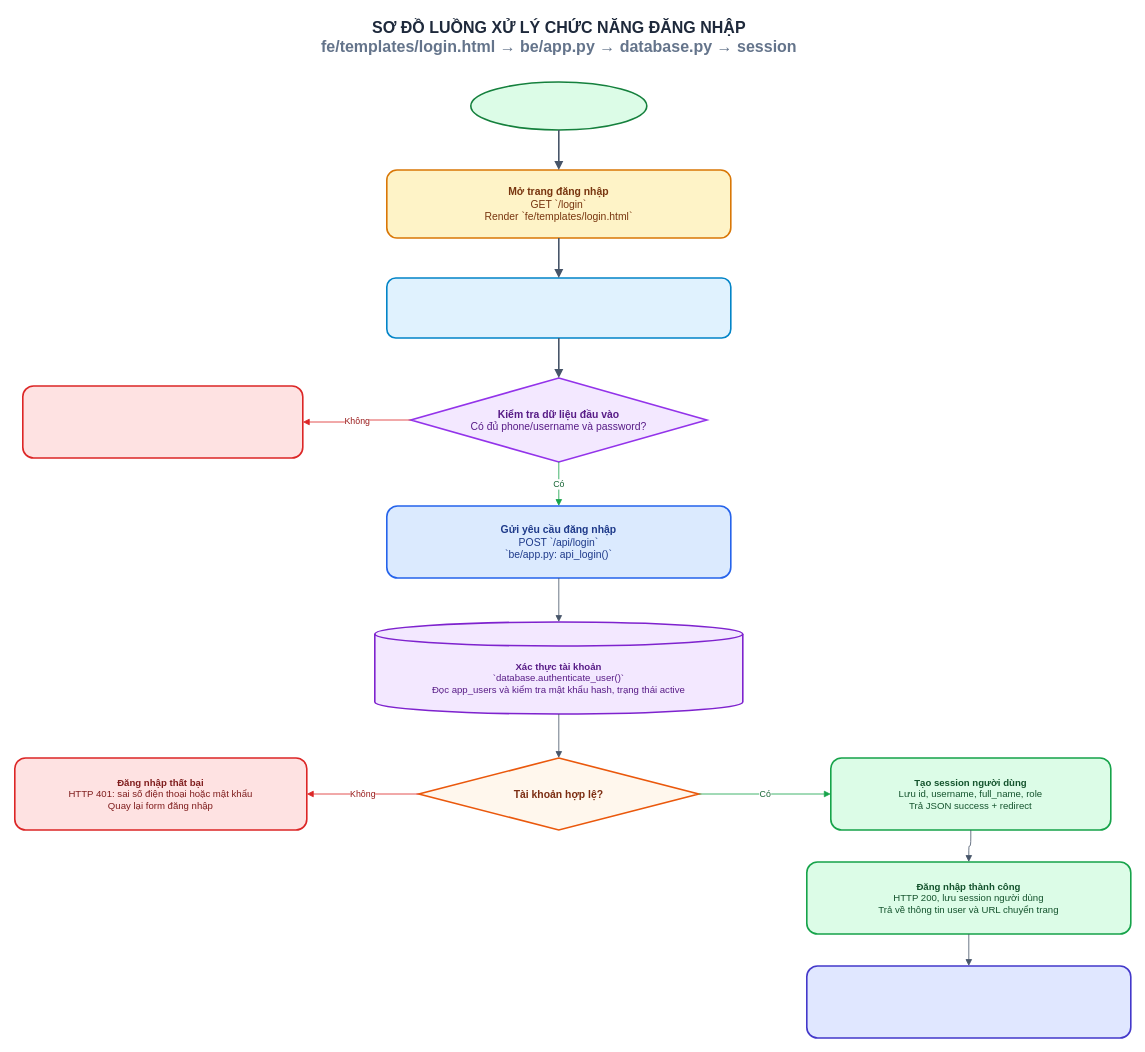
This 1145x1052 diagram has some shape labels left out. Each missing label, with the centre of its shape:
"Báo lỗi form Thiếu số điện thoại hoặc mật khẩu Giữ nguyên form để nhập lại" belongs at (162,421).
"Nhập số điện thoại và mật khẩu Bấm nút Đăng nhập" belongs at (558,307).
"START" belongs at (558,105).
"Điều hướng theo role Resident → `/resident-dashboard` Guard/Admin → `/`" belongs at (968,1001).
